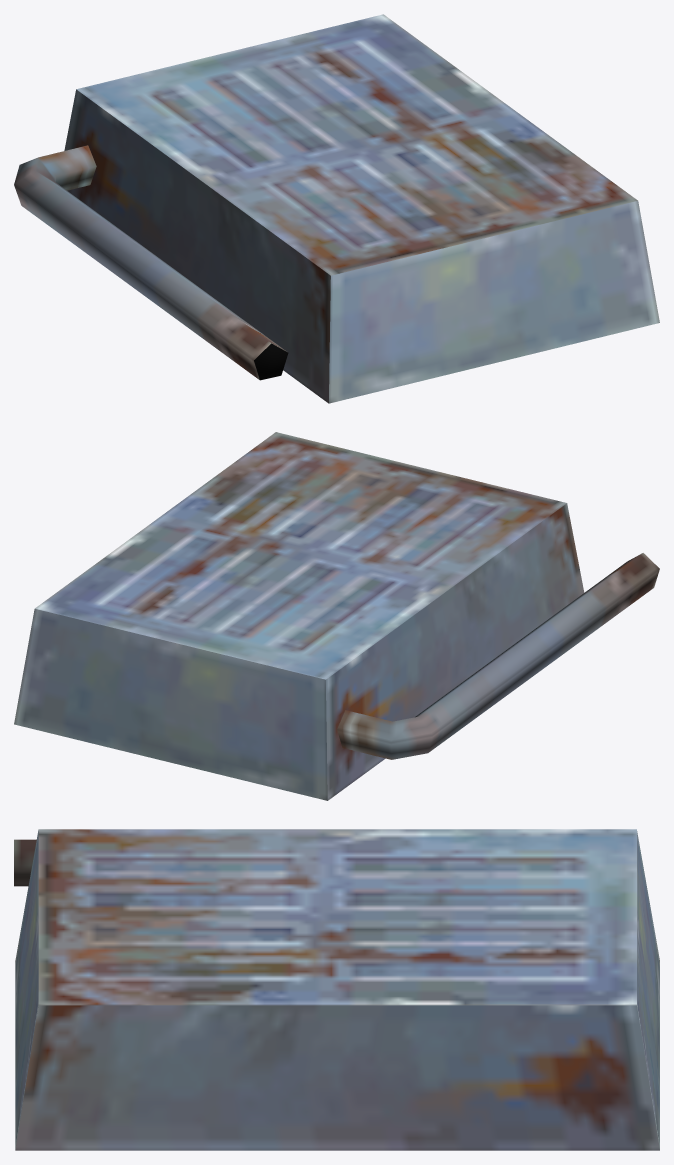
File: tyt_arch_fleshraider_junk_11.glb
The picture shows the model from 3 angles, top to bottom: view 1: azimuth 30°, elevation 25°; view 2: azimuth 150°, elevation 25°; view 3: azimuth 270°, elevation 25°; orthographic projection. The views are drawn at different scales.
Parts seen in each view (by area): view 1: tyt_arch_fleshraider_junk_11; view 2: tyt_arch_fleshraider_junk_11; view 3: tyt_arch_fleshraider_junk_11.
Part boxes in pixels (box(x1,y1,x2,y2)): tyt_arch_fleshraider_junk_11: box(14, 14, 659, 403); tyt_arch_fleshraider_junk_11: box(14, 432, 659, 800); tyt_arch_fleshraider_junk_11: box(14, 829, 659, 1150).
Size of the model in its own units: 0.0701 by 0.0194 by 0.0821.
Materials: 1 (1 with a texture image).
